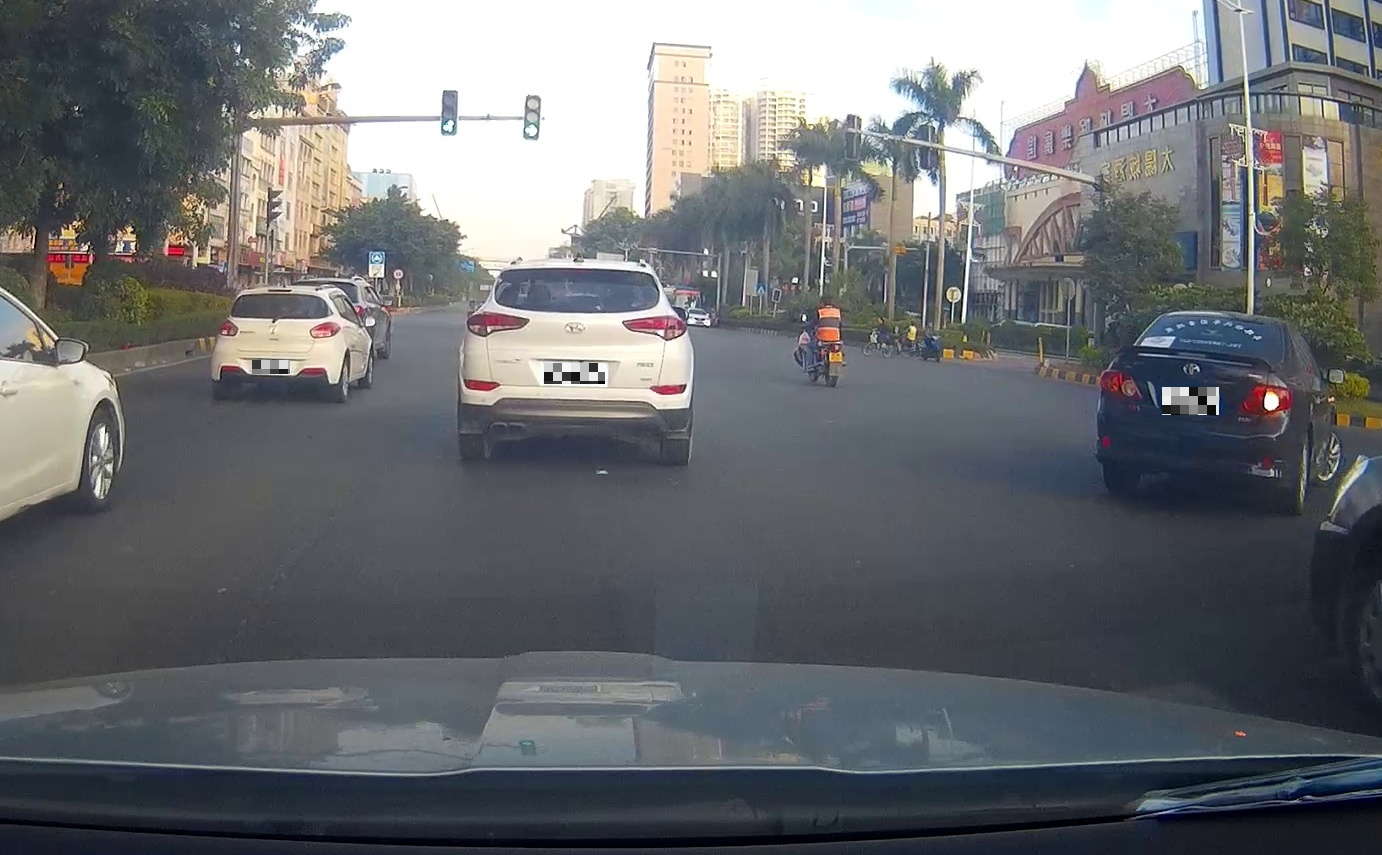L_light: (466, 310, 530, 337), (1098, 369, 1143, 400), (217, 319, 240, 338)
R_light: (621, 315, 688, 341), (1238, 384, 1291, 415), (309, 321, 342, 339)
T_light: (1206, 316, 1237, 323), (564, 267, 596, 273), (267, 289, 292, 292)
day-no: (458, 258, 694, 464), (210, 285, 342, 401)
day-right: (1098, 310, 1293, 511)
plate_1: (252, 360, 290, 374)
plate_2: (544, 363, 605, 384)
plate_3: (1162, 387, 1219, 415)
